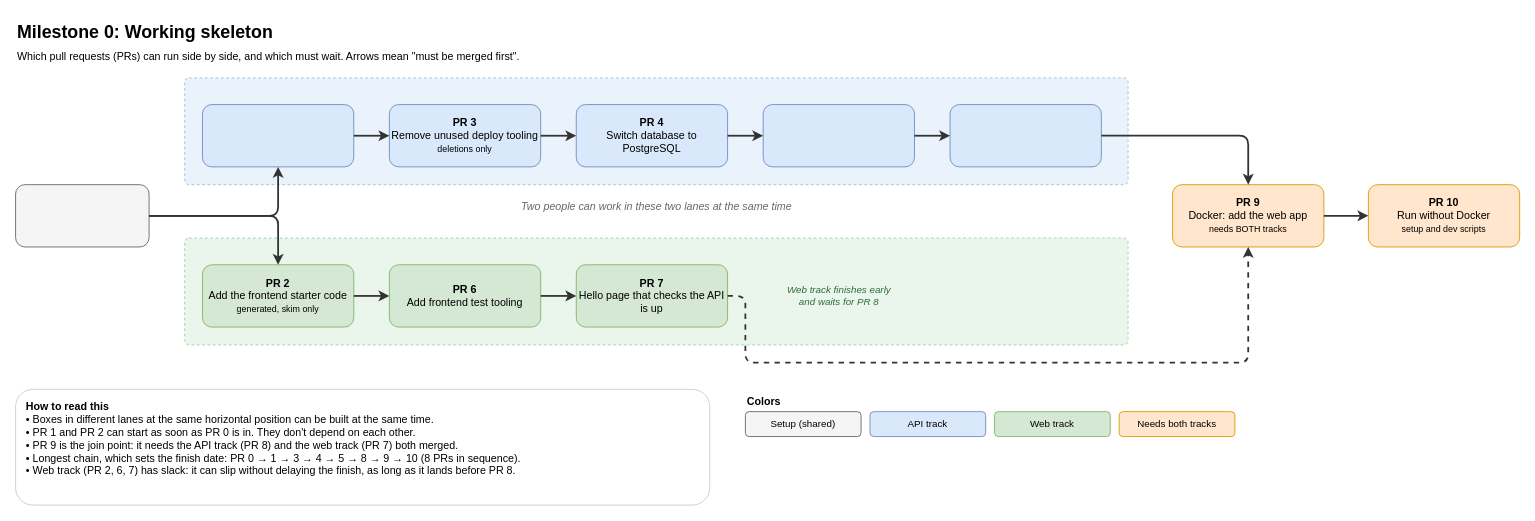
Some shapes in this 1535 by 521 pixel diagram are drawn without their labels. The box of each missing label's shape, as (x1, y1, x2, y2) in pixels:
API track (Rails): (184, 77, 1128, 185)
PR 0 Set up the repository direct commit, no review: (15, 184, 149, 247)
PR 1 Add the backend starter code generated, skim only: (202, 104, 354, 167)
PR 5 Switch backend tests to RSpec: (762, 104, 914, 167)
PR 8 Docker: database + API first one-command run: (949, 104, 1101, 167)
Web track (Next.js): (184, 237, 1128, 345)
